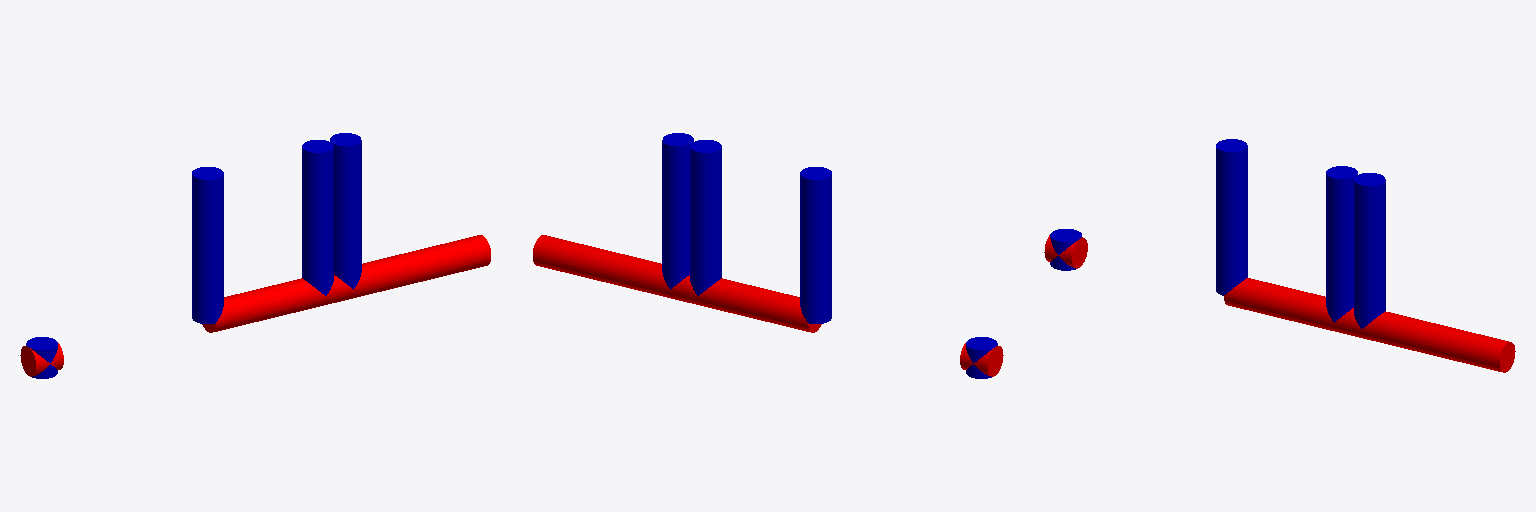
The robot description file, URDF, robot "example_robot":
<?xml version="1.0"?>
<robot name="example_robot">

  <!-- Materiales -->
  <material name="red">
    <color rgba="1 0 0 1"/>
  </material>
  <material name="blue">
    <color rgba="0 0 0.8 1"/>
  </material>

  <!-- Base link -->
  <link name="base_link"/>

  <joint name="base_to_link0" type="fixed">
    <origin xyz="0 0 0.9" rpy="0 0 0"/>
    <parent link="base_link"/>
    <child link="link0_passive"/>
  </joint>

  <link name="link0_passive">
    <visual>
      <origin xyz="0 0 0" rpy="0 0 0"/>
      <material name="blue"/>
      <geometry>
        <cylinder length="0.1" radius="0.05"/>
      </geometry>
    </visual>
  </link>

  <link name="link0_x_axis">
    <visual>
      <origin xyz="0 0 0" rpy="0 0 0"/>
      <material name="red"/>
      <geometry>
        <cylinder length="0.1" radius="0.05"/>
      </geometry>
    </visual>
  </link>

  <joint name="q0_x" type="fixed">
    <origin xyz="0 0 0" rpy="0 1.571 0"/>
    <parent link="link0_passive"/>
    <child link="link0_x_axis"/>
  </joint>

  <link name="link1"/>

  <link name="link1_x_axis">
    <visual>
      <origin xyz="0 0 0.25" rpy="0 0 0"/>
      <material name="red"/>
      <geometry>
        <cylinder length="0.5" radius="0.05"/>
      </geometry>
    </visual>
  </link>

  <joint name="q1" type="revolute">
    <origin xyz="0 0 0" rpy="0 0 0"/>
    <parent link="link0_passive"/>
    <child link="link1"/>
    <axis xyz="0 0 1"/>
    <limit lower="-1.57" upper="1.57" effort="100" velocity="1.0"/>
  </joint>

  <joint name="q1_passive" type="fixed">
    <origin xyz="0.6 0 0" rpy="0 0 0"/>
    <parent link="link1"/>
    <child link="link1_passive"/>
  </joint>

  <link name="link1_passive">
    <visual>
      <origin xyz="0 0 0.25" rpy="0 0 0"/>
      <material name="blue"/>
      <geometry>
        <cylinder length="0.5" radius="0.05"/>
      </geometry>
    </visual>
  </link>

  <joint name="q1_x" type="fixed">
    <origin xyz="0 0 0" rpy="0 1.571 0"/>
    <parent link="link1_passive"/>
    <child link="link1_x_axis"/>
  </joint>

  <link name="link2"/>

  <link name="link2_x_axis">
    <visual>
      <origin xyz="0 0 0.25" rpy="0 0 0"/>
      <material name="red"/>
      <geometry>
        <cylinder length="0.5" radius="0.05"/>
      </geometry>
    </visual>
  </link>

  <joint name="q2" type="revolute">
    <origin xyz="0 0 0" rpy="0 0 0"/>
    <parent link="link1_passive"/>
    <child link="link2"/>
    <axis xyz="0 0 1"/>
    <limit lower="-1.57" upper="1.57" effort="100" velocity="1.0"/>
  </joint>

  <joint name="q2_passive" type="fixed">
    <origin xyz="0.4 0 0" rpy="0 0 0"/>
    <parent link="link2"/>
    <child link="link2_passive"/>
  </joint>

  <link name="link2_passive">
    <visual>
      <origin xyz="0 0 0.25" rpy="0 0 0"/>
      <material name="blue"/>
      <geometry>
        <cylinder length="0.5" radius="0.05"/>
      </geometry>
    </visual>
  </link>

  <joint name="q2_x" type="fixed">
    <origin xyz="0 0 0" rpy="0 1.571 0"/>
    <parent link="link2_passive"/>
    <child link="link2_x_axis"/>
  </joint>

  <link name="link3"/>

  <link name="link3_x_axis">
    <visual>
      <origin xyz="0 0 0.25" rpy="0 0 0"/>
      <material name="red"/>
      <geometry>
        <cylinder length="0.5" radius="0.05"/>
      </geometry>
    </visual>
  </link>

  <joint name="q3" type="prismatic">
    <origin xyz="0 0 0" rpy="0 0 0"/>
    <parent link="link2_passive"/>
    <child link="link3"/>
    <axis xyz="0 0 1"/>
    <limit lower="0.0" upper="0.2" effort="50" velocity="0.2"/>
  </joint>

  <joint name="q3_passive" type="fixed">
    <origin xyz="0.1 0 0" rpy="0 0 0"/>
    <parent link="link3"/>
    <child link="link3_passive"/>
  </joint>

  <link name="link3_passive">
    <visual>
      <origin xyz="0 0 0.25" rpy="0 0 0"/>
      <material name="blue"/>
      <geometry>
        <cylinder length="0.5" radius="0.05"/>
      </geometry>
    </visual>
  </link>

  <joint name="q3_x" type="fixed">
    <origin xyz="0 0 0" rpy="0 1.571 0"/>
    <parent link="link3_passive"/>
    <child link="link3_x_axis"/>
  </joint>

</robot>

--- What the picture shows (computed from the rendered views, not written in the file) ---
The picture shows the robot from 3 angles, left to right: view 1: azimuth 30°, elevation 25°; view 2: azimuth 150°, elevation 25°; view 3: azimuth 330°, elevation 25°; orthographic projection.
Model example_robot with 12 links and 11 joints (2 revolute, 1 prismatic, 8 fixed), rooted at base_link, posed every joint at zero.
Links seen in each view (by area): view 1: link1_passive, link2_passive, link3_passive, link1_x_axis, link3_x_axis, link2_x_axis, link0_x_axis, link0_passive; view 2: link1_passive, link2_passive, link3_passive, link1_x_axis, link3_x_axis, link2_x_axis, link0_x_axis, link0_passive; view 3: link1_passive, link3_passive, link2_passive, link3_x_axis, link1_x_axis, link2_x_axis, link0_x_axis, link0_passive.
Link boxes in pixels (left/top/right/bottom): link1_passive: left=192, top=167, right=223, bottom=323; link2_passive: left=302, top=140, right=333, bottom=295; link3_passive: left=330, top=133, right=361, bottom=289; link1_x_axis: left=202, top=278, right=353, bottom=332; link3_x_axis: left=354, top=235, right=490, bottom=289; link2_x_axis: left=327, top=263, right=463, bottom=298; link0_x_axis: left=20, top=343, right=63, bottom=376; link0_passive: left=26, top=337, right=57, bottom=378; link1_passive: left=800, top=167, right=831, bottom=323; link2_passive: left=690, top=140, right=721, bottom=295; link3_passive: left=662, top=133, right=693, bottom=289; link1_x_axis: left=670, top=278, right=821, bottom=332; link3_x_axis: left=533, top=235, right=669, bottom=289; link2_x_axis: left=560, top=263, right=696, bottom=298; link0_x_axis: left=960, top=343, right=1003, bottom=376; link0_passive: left=966, top=337, right=997, bottom=378; link1_passive: left=1216, top=139, right=1247, bottom=295; link3_passive: left=1354, top=173, right=1385, bottom=328; link2_passive: left=1326, top=166, right=1357, bottom=322; link3_x_axis: left=1362, top=311, right=1515, bottom=372; link1_x_axis: left=1224, top=278, right=1364, bottom=338; link2_x_axis: left=1335, top=308, right=1474, bottom=365; link0_x_axis: left=1044, top=235, right=1087, bottom=268; link0_passive: left=1050, top=229, right=1081, bottom=270.
Size in the robot's own frame: 1.65 by 0.1 by 0.5501 metres.
Geometry: primitives only (box / cylinder / sphere), no mesh files.